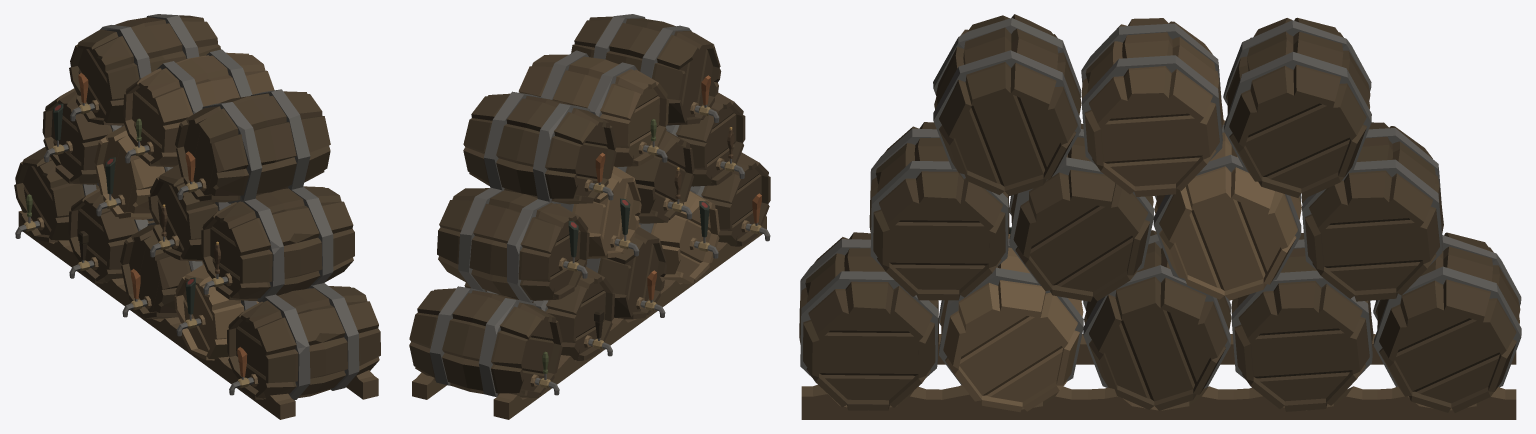
The model's file is prop_barrel_stack.gltf.
3 renders of one model, left to right at view 1: azimuth 30°, elevation 25°; view 2: azimuth 150°, elevation 25°; view 3: azimuth 270°, elevation 25°, orthographic. The views are drawn at different scales.
Visible parts, largest first — view 1: prop_barrel_stack; view 2: prop_barrel_stack; view 3: prop_barrel_stack.
Part boxes in pixels (bbox=[...]): prop_barrel_stack: bbox=[14, 14, 380, 419]; prop_barrel_stack: bbox=[409, 14, 770, 419]; prop_barrel_stack: bbox=[799, 14, 1521, 419].
Bounding box in the file's own units: 1.06 × 1.98 × 3.7.
Materials: 1 (1 with a texture image).
